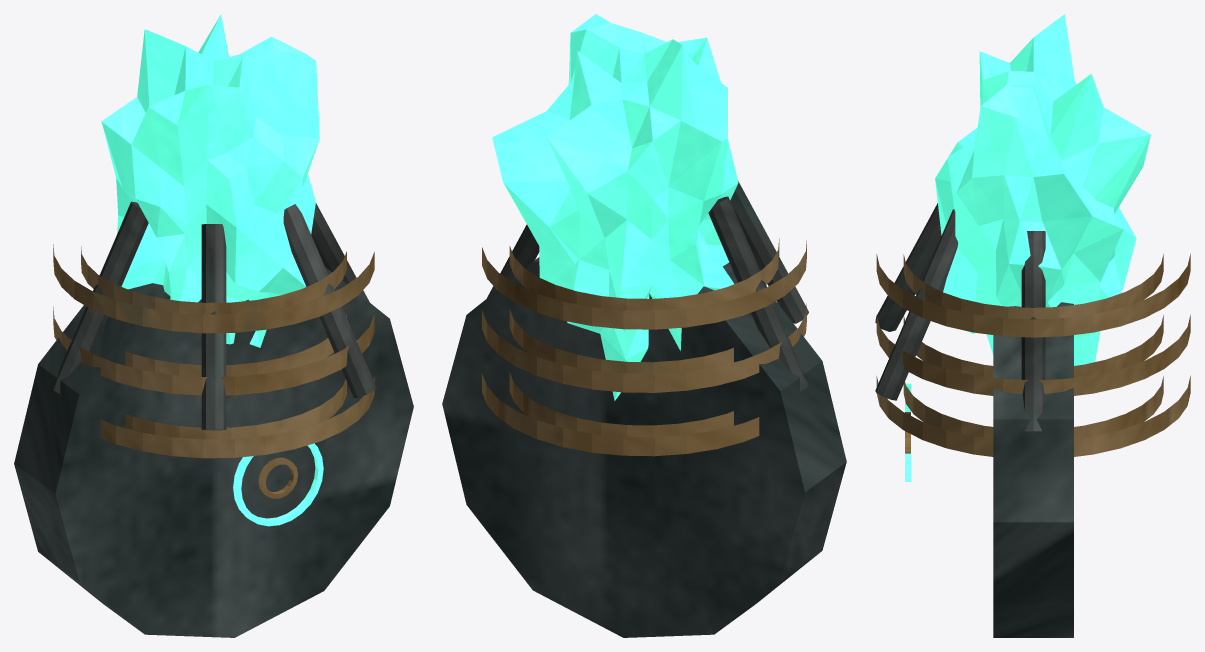
Rendered from 0990_offering_relic_15.glb.
3 renders of one model, left to right at view 1: azimuth 30°, elevation 25°; view 2: azimuth 150°, elevation 25°; view 3: azimuth 270°, elevation 25°, orthographic. The views are drawn at different scales.
Parts seen in each view (by area): view 1: stone_dark, glow, brass, iron; view 2: stone_dark, glow, brass, iron; view 3: glow, brass, stone_dark, iron.
Part boxes in pixels (x1=…): stone_dark: x1=14, y1=267, x2=413, y2=637; glow: x1=101, y1=14, x2=323, y2=526; brass: x1=53, y1=244, x2=374, y2=498; iron: x1=51, y1=201, x2=376, y2=430; stone_dark: x1=442, y1=257, x2=846, y2=637; glow: x1=492, y1=14, x2=738, y2=400; brass: x1=482, y1=238, x2=806, y2=456; iron: x1=487, y1=181, x2=808, y2=391; glow: x1=905, y1=14, x2=1150, y2=481; brass: x1=876, y1=253, x2=1190, y2=456; stone_dark: x1=993, y1=302, x2=1073, y2=637; iron: x1=875, y1=203, x2=1045, y2=431.
Size of the model in its own units: 0.9 by 1.43 by 0.7028.
Materials: 4 (4 with a texture image).
